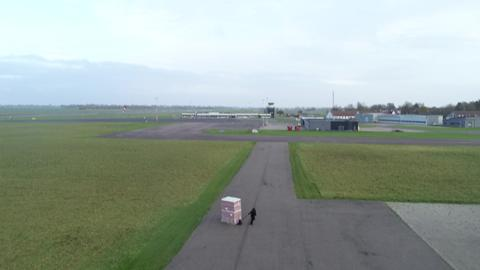RockwoolPallet: (221, 197, 242, 224)
